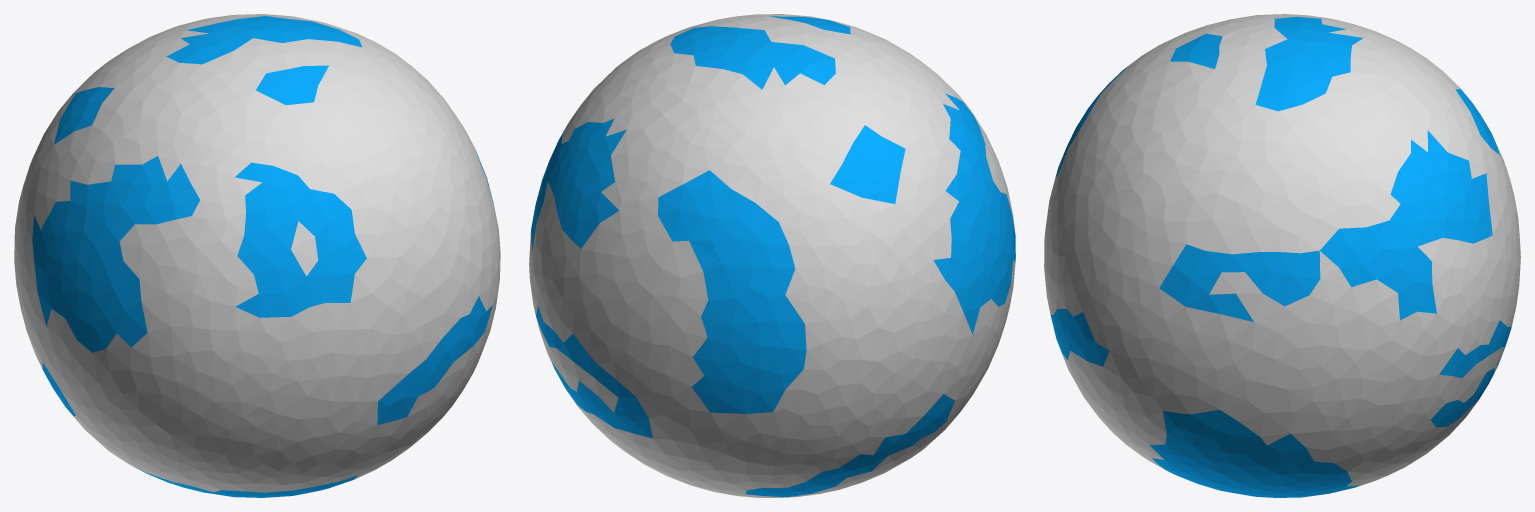
Rendered from PlanetGreybox.fbx.
3 views of the same model, side by side, from view 1: azimuth 30°, elevation 25°; view 2: azimuth 150°, elevation 25°; view 3: azimuth 270°, elevation 25° (orthographic).
Visible parts, largest first — view 1: Planet; view 2: Planet; view 3: Planet.
Part boxes in pixels (<box>): Planet: <box>14,14,500,497</box>; Planet: <box>529,14,1015,497</box>; Planet: <box>1044,14,1520,497</box>.
Size of the model in its own units: 897 by 897 by 897.
